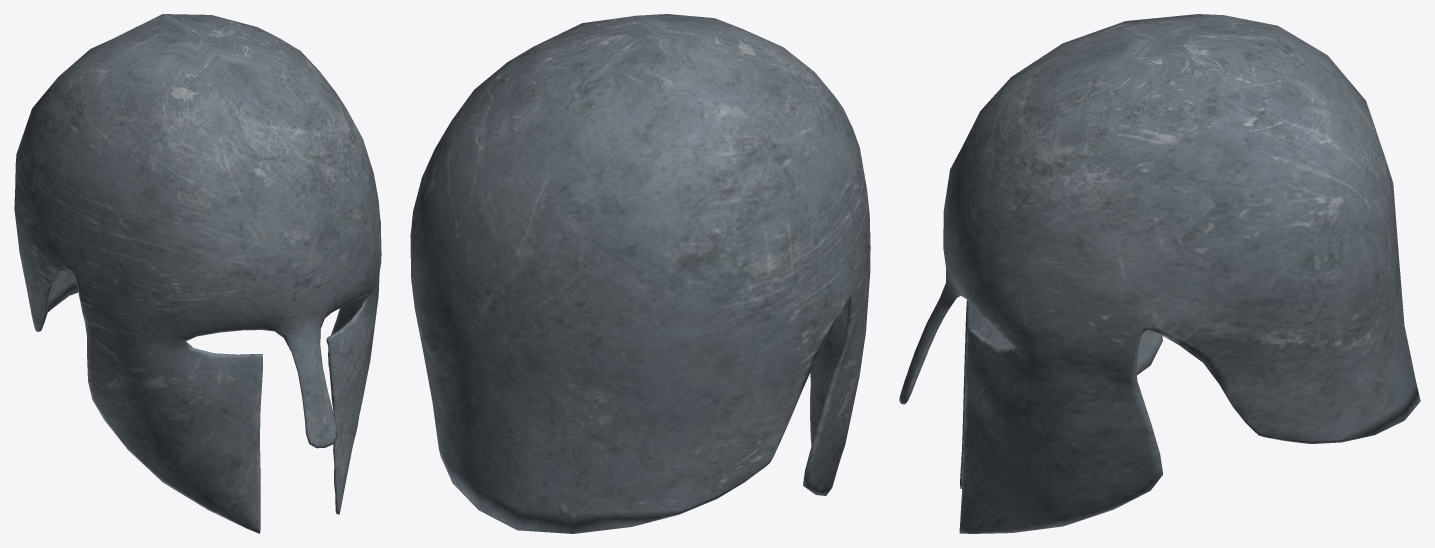
The model's file is greek_helmet (1).glb.
The picture shows the model from 3 angles, left to right: view 1: azimuth 30°, elevation 25°; view 2: azimuth 150°, elevation 25°; view 3: azimuth 270°, elevation 25°; orthographic projection. The views are drawn at different scales.
Visible parts, largest first — view 1: Nulo_; view 2: Nulo_; view 3: Nulo_.
Boxes of the visible parts, left/top/right/bottom form: Nulo_: left=14, top=14, right=381, bottom=533; Nulo_: left=410, top=14, right=870, bottom=533; Nulo_: left=899, top=14, right=1420, bottom=533.
Size of the model in its own units: 2.25 by 3.02 by 2.98.
1 material, 1 textured.
